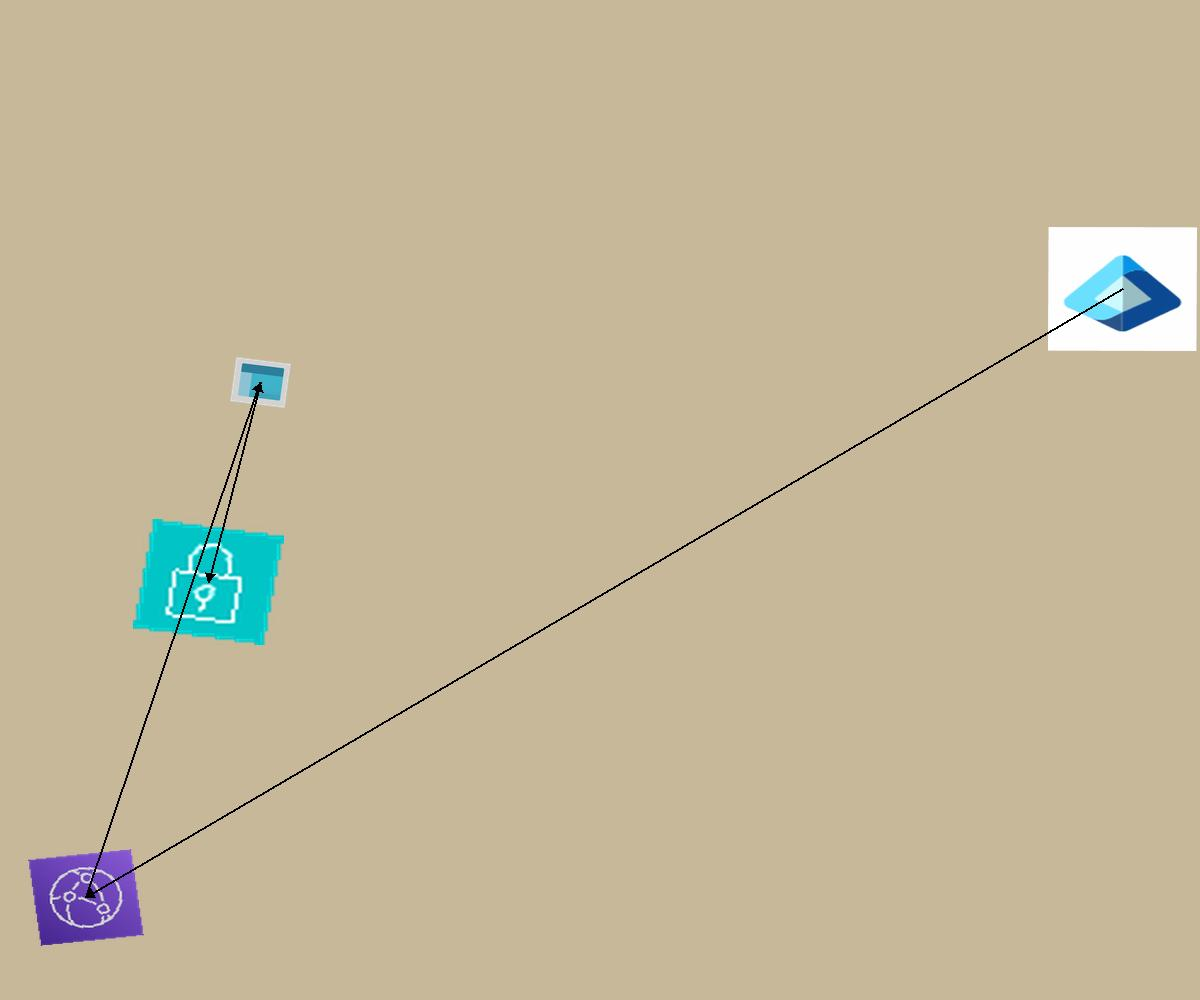AWS-CloudFront: (28, 849, 144, 946)
AWS-Private-subnet: (133, 519, 284, 645)
Azure_management-portal: (230, 357, 291, 408)
Azure_microsoft_entra: (1048, 227, 1197, 351)
